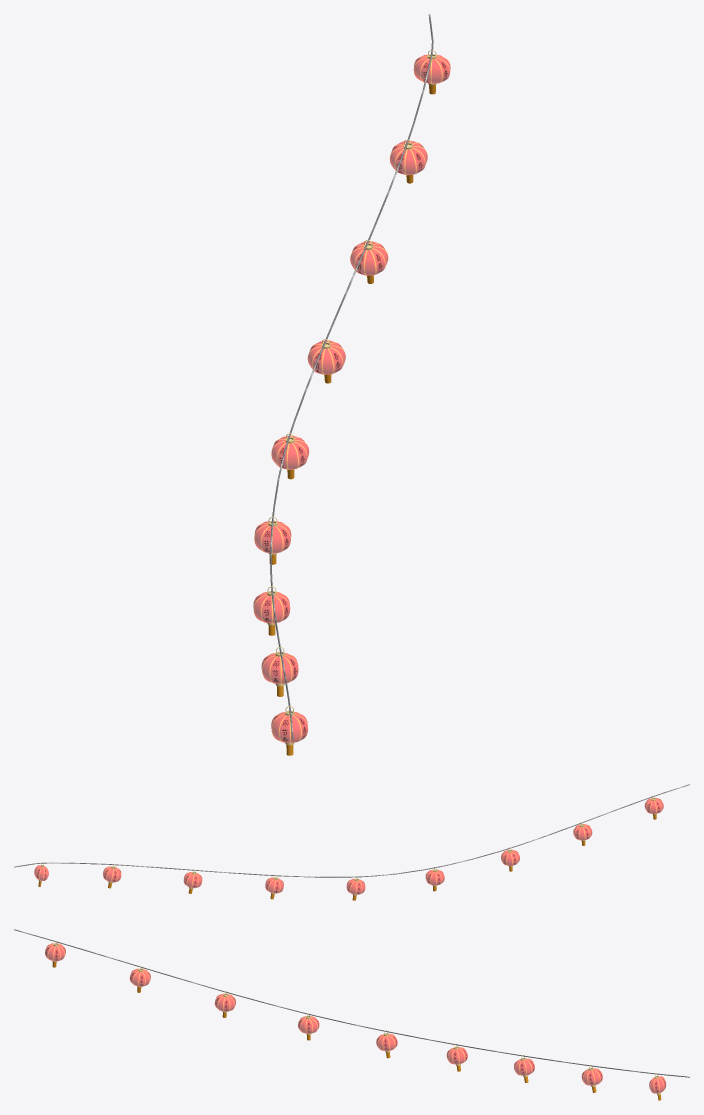
The model's file is SM_lamp_spline_Splines_9.fbx.
The picture shows the model from 3 angles, top to bottom: view 1: azimuth 30°, elevation 25°; view 2: azimuth 150°, elevation 25°; view 3: azimuth 270°, elevation 25°; orthographic projection. The views are drawn at different scales.
Visible parts, largest first — view 1: SM_lamp_spline_Splines_9; view 2: SM_lamp_spline_Splines_9; view 3: SM_lamp_spline_Splines_9.
Part boxes in pixels (x1,y1,x2,y2): SM_lamp_spline_Splines_9: (253,14,450,755); SM_lamp_spline_Splines_9: (14,784,689,900); SM_lamp_spline_Splines_9: (14,929,689,1100).
Size of the model in its own units: 1252 by 1768 by 284.
